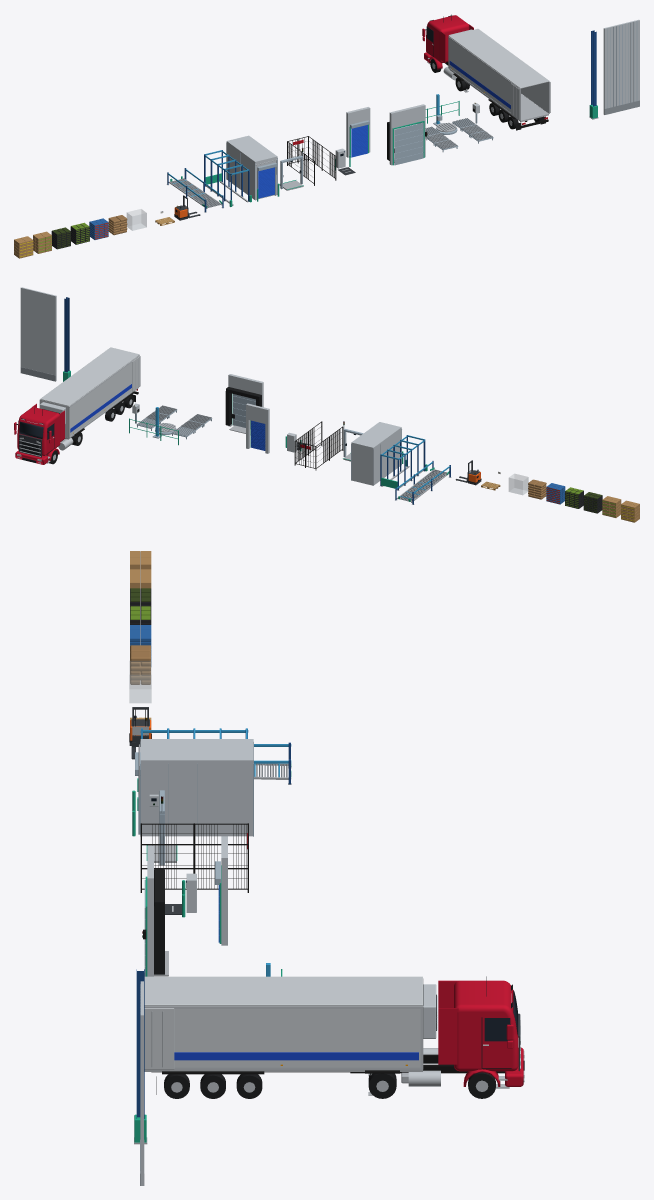
File: dc-kit.glb
3 renders of one model, top to bottom at view 1: azimuth 30°, elevation 25°; view 2: azimuth 150°, elevation 25°; view 3: azimuth 270°, elevation 25°, orthographic. The views are drawn at different scales.
Visible parts, largest first — view 1: WallPanelSheet, TruckBody, TruckRoof, WallPanelRibs, DockOutShutterPanels, RoomWalls, TractorCab, DockOutWall, WrapperRollers, RoomRoof, QuarantineMesh, DriveInUprights (+10 smaller); view 2: WallPanelSheet, TruckRoof, TruckBody, RoomWalls, TractorCab, QuarantineMesh, WrapperRollers, RoomRoof, DockInWall, DriveInUprights, DockOutWall, FlowRollers (+8 smaller); view 3: TruckBody, TruckRoof, RoomWalls, TractorCab, RoomRoof, TruckStripe, TruckDoorR, QuarantineMesh, TractorExtenders, TruckRails, TruckTrailerTyres, LoadWrapFilm (+2 smaller).
Part boxes in pixels (left/top/right/bottom): WallPanelSheet: left=603, top=19, right=639, bottom=114; TruckBody: left=449, top=37, right=549, bottom=113; TruckRoof: left=449, top=29, right=549, bottom=88; WallPanelRibs: left=607, top=21, right=637, bottom=107; DockOutShutterPanels: left=394, top=122, right=423, bottom=165; RoomWalls: left=226, top=143, right=277, bottom=200; TractorCab: left=426, top=15, right=469, bottom=63; DockOutWall: left=389, top=104, right=425, bottom=165; WrapperRollers: left=425, top=118, right=492, bottom=149; RoomRoof: left=226, top=135, right=277, bottom=163; QuarantineMesh: left=287, top=137, right=334, bottom=179; DriveInUprights: left=204, top=150, right=249, bottom=201; WallPanelSheet: left=20, top=287, right=56, bottom=381; TruckRoof: left=40, top=347, right=139, bottom=406; TruckBody: left=40, top=355, right=139, bottom=437; RoomWalls: left=351, top=429, right=401, bottom=485; TractorCab: left=17, top=407, right=60, bottom=455; QuarantineMesh: left=295, top=427, right=341, bottom=467; WrapperRollers: left=137, top=405, right=211, bottom=436; RoomRoof: left=351, top=422, right=401, bottom=449; DockInWall: left=246, top=403, right=269, bottom=453; DriveInUprights: left=380, top=435, right=425, bottom=490; DockOutWall: left=228, top=374, right=263, bottom=426; FlowRollers: left=398, top=469, right=447, bottom=501; TruckBody: left=145, top=1006, right=422, bottom=1067; TruckRoof: left=144, top=976, right=422, bottom=1006; RoomWalls: left=144, top=763, right=252, bottom=836; TractorCab: left=454, top=980, right=518, bottom=1071; RoomRoof: left=140, top=739, right=253, bottom=763; TruckStripe: left=174, top=1052, right=418, bottom=1060; TruckDoorR: left=144, top=1008, right=174, bottom=1069; QuarantineMesh: left=142, top=825, right=247, bottom=888; TractorExtenders: left=438, top=980, right=458, bottom=1064; TruckRails: left=144, top=1006, right=422, bottom=1069; TruckTrailerTyres: left=164, top=1074, right=262, bottom=1098; LoadWrapFilm: left=129, top=661, right=151, bottom=703.
Bounding box in the file's own units: 52.89 × 7.01 × 14.71.
